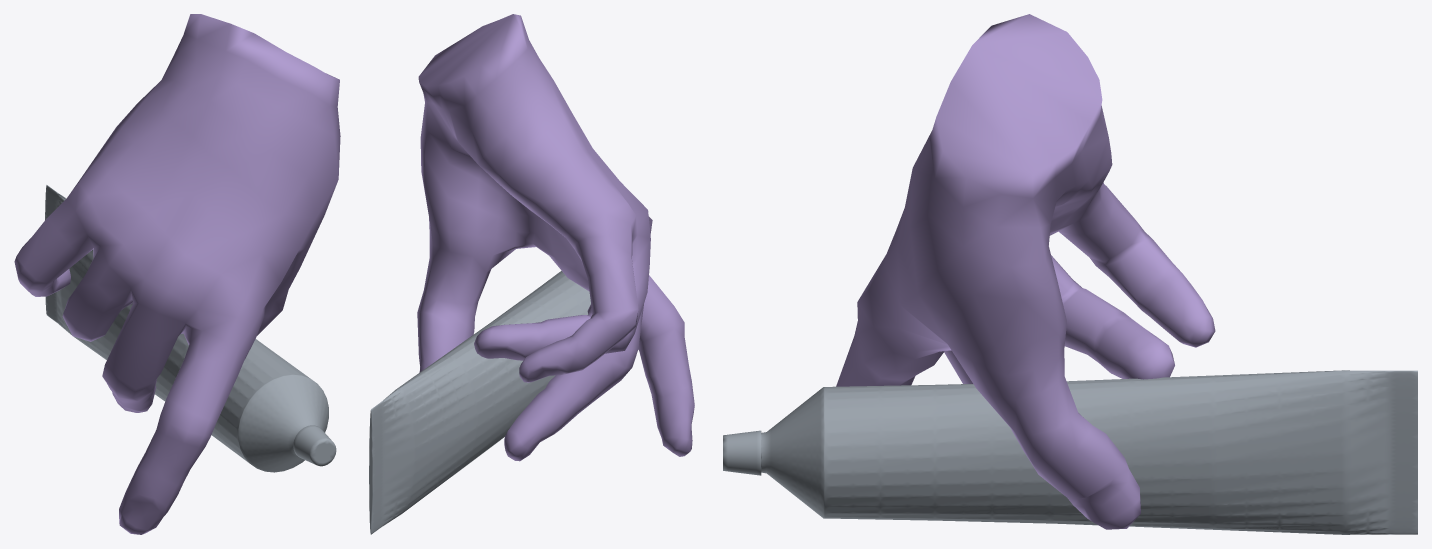
Rendered from ours_0.glb.
The picture shows the model from 3 angles, left to right: view 1: azimuth 30°, elevation 25°; view 2: azimuth 150°, elevation 25°; view 3: azimuth 270°, elevation 25°; orthographic projection. The views are drawn at different scales.
Size of the model in its own units: 0.1122 by 0.1824 by 0.202.
